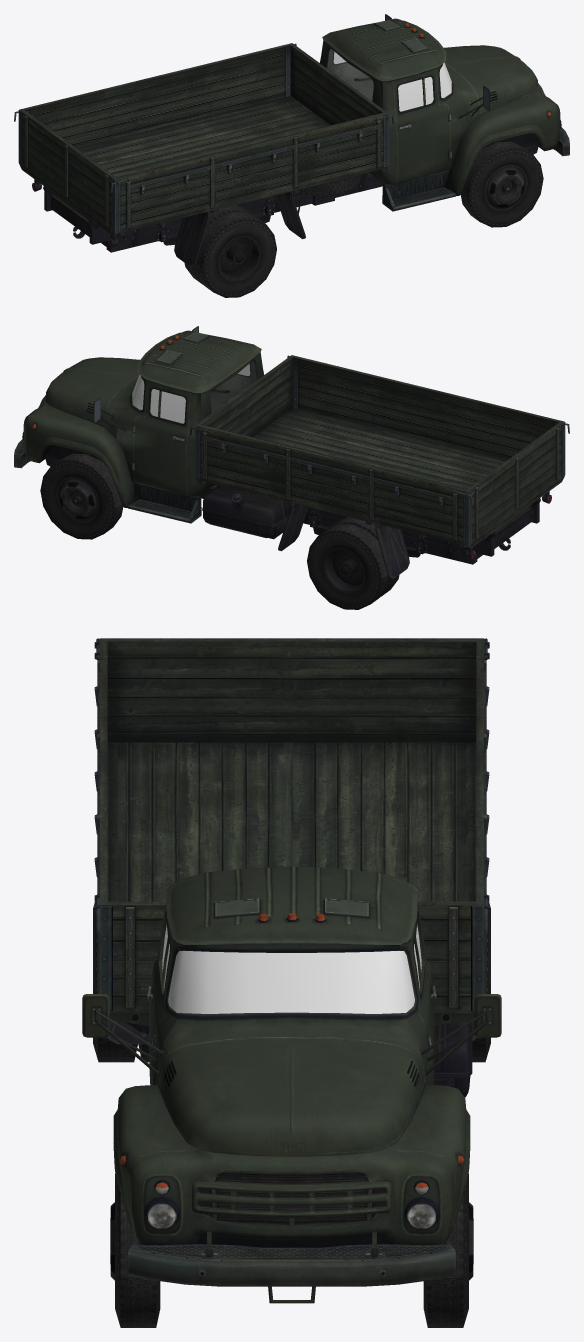
The model's file is zil_130.glb.
3 renders of one model, top to bottom at view 1: azimuth 30°, elevation 25°; view 2: azimuth 150°, elevation 25°; view 3: azimuth 270°, elevation 25°, orthographic. The views are drawn at different scales.
Visible parts, largest first — view 1: zil130_wg_2; view 2: zil130_wg_2; view 3: zil130_wg_2.
Boxes of the visible parts, x1,y1,x2,y2 form: zil130_wg_2: (14,14,569,297); zil130_wg_2: (14,326,569,609); zil130_wg_2: (82,638,501,1327).
Size of the model in its own units: 6.94 by 2.49 by 2.64.
2 materials, 1 textured.
